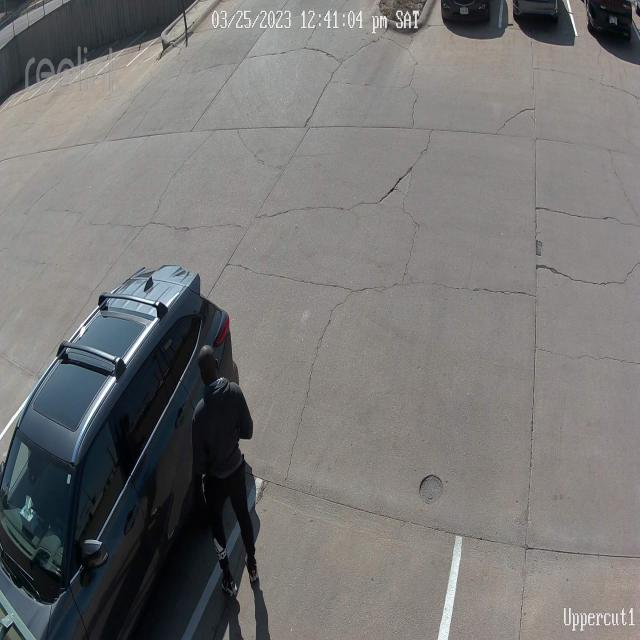Empty-slot: (185, 433, 476, 640), (440, 418, 640, 640), (0, 293, 81, 432)
Person: (193, 324, 270, 640)
Slot-Occupied: (2, 287, 246, 640), (588, 0, 638, 58), (442, 0, 505, 43), (516, 1, 561, 26)
